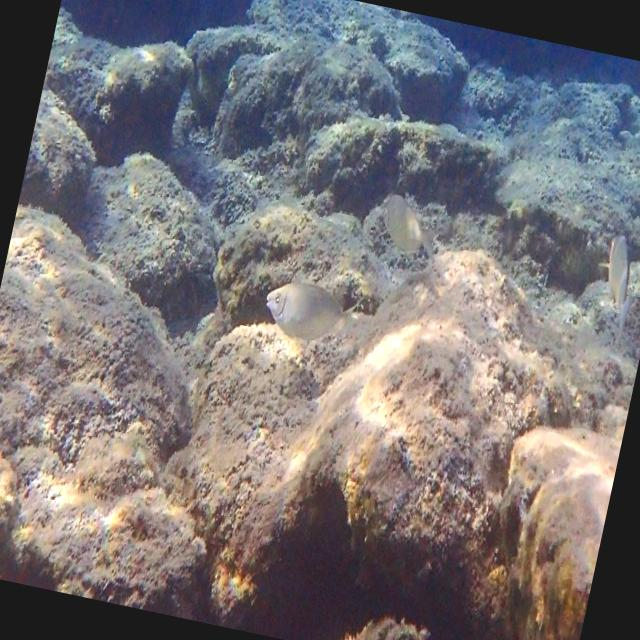Sokar Baligi: (252, 260, 375, 366)
